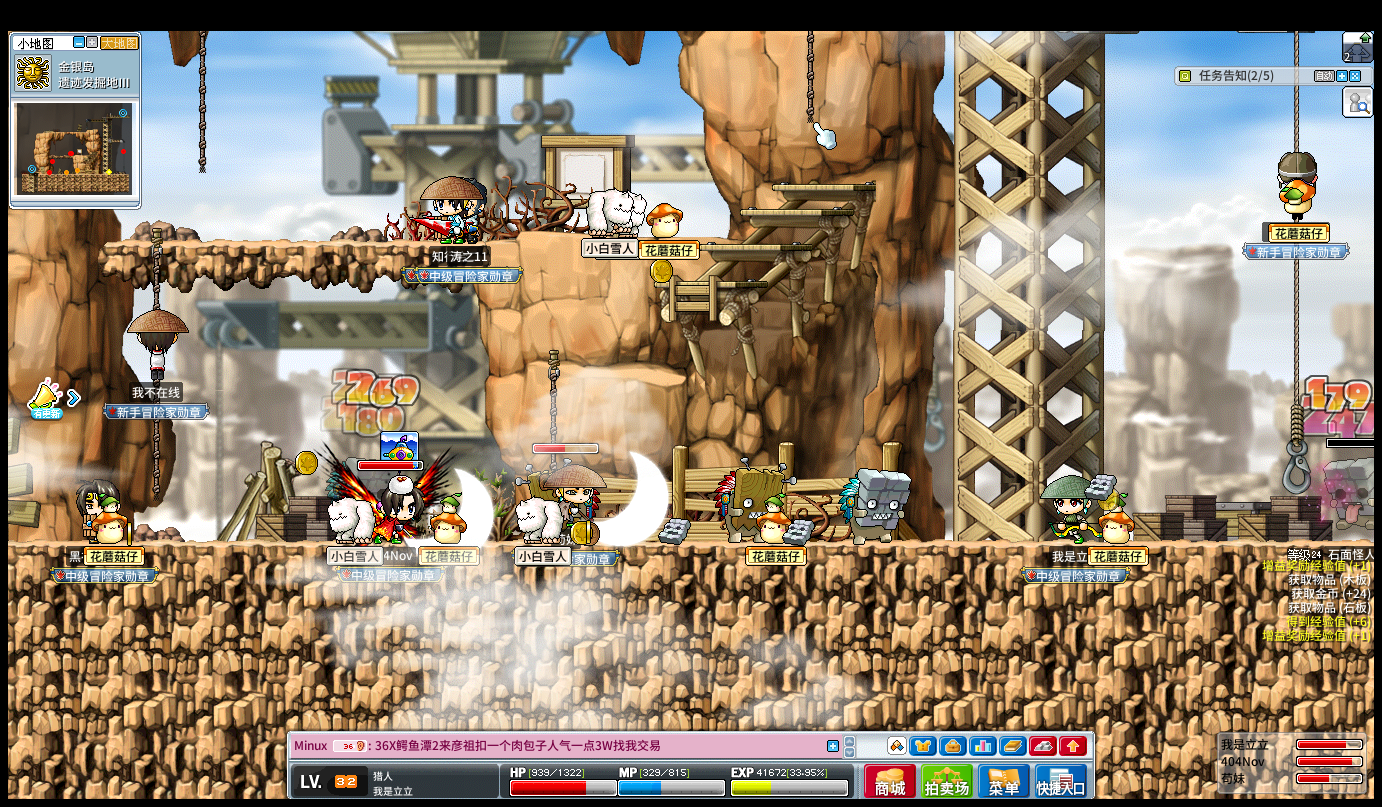floor: (101, 239, 469, 249), (576, 364, 688, 384), (577, 232, 734, 240), (649, 280, 762, 291), (738, 205, 852, 215), (649, 279, 766, 287), (736, 207, 849, 215), (698, 243, 810, 251), (771, 183, 875, 191)
monster: (714, 461, 789, 543), (838, 467, 912, 543), (1322, 458, 1374, 539)
rope: (1293, 256, 1304, 394), (546, 349, 561, 445), (1291, 256, 1301, 386), (198, 30, 207, 174), (544, 349, 557, 442), (152, 419, 164, 502), (150, 227, 162, 308), (804, 29, 814, 123), (1292, 29, 1299, 148), (151, 418, 160, 501)
